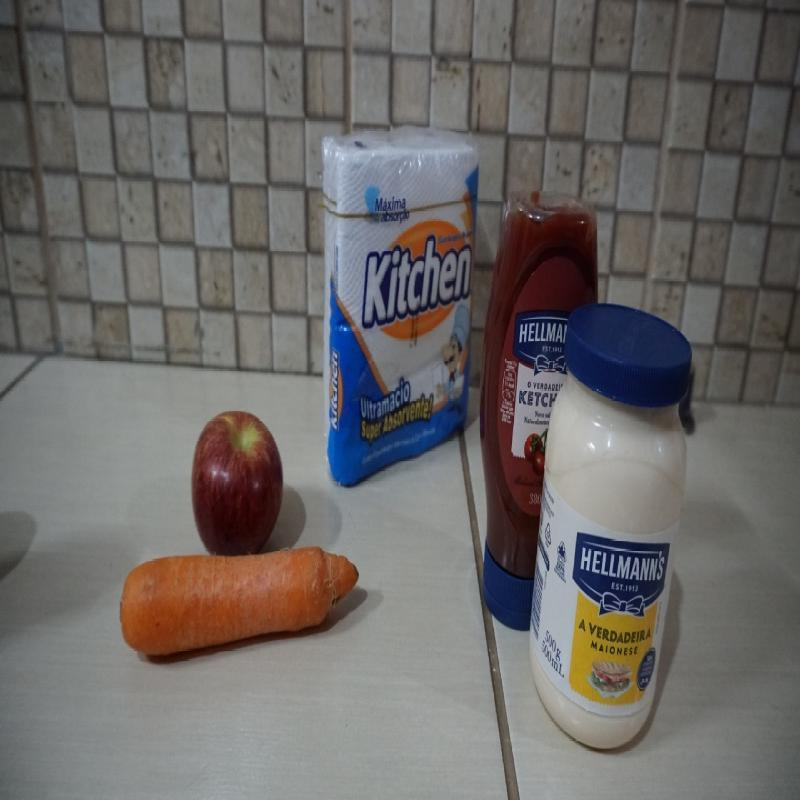Apple: (193, 409, 286, 558)
Carrot: (119, 547, 358, 659)
Ketchup: (480, 189, 598, 631)
Mayonnaise: (528, 302, 694, 750)
Napkin: (319, 125, 478, 484)
